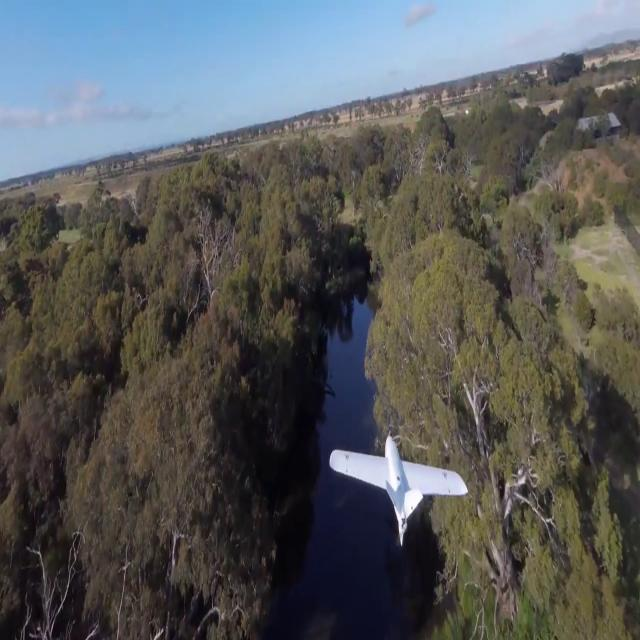iha: (317, 469, 460, 502)
